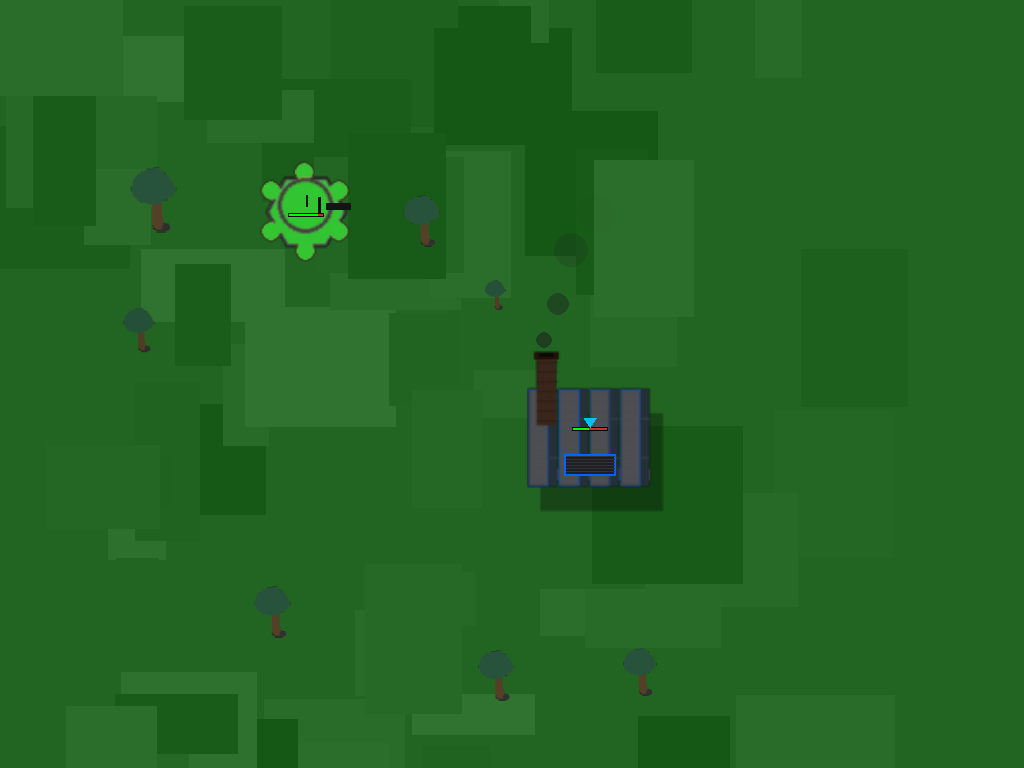Bunker: (257, 164, 354, 261)
FactoryBuilding: (511, 347, 668, 504)
